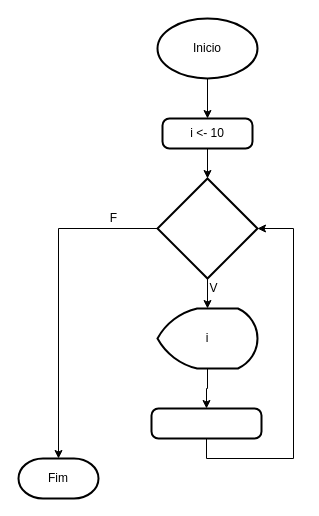
Some shapes in this 319 by 516 pixel diagram are drawn without their labels. Here are the shapes that lost their labels. From the top down, the centre of each, then its label:
At (207,228): "enquanto i < 21".
At (206,423): "i++".
